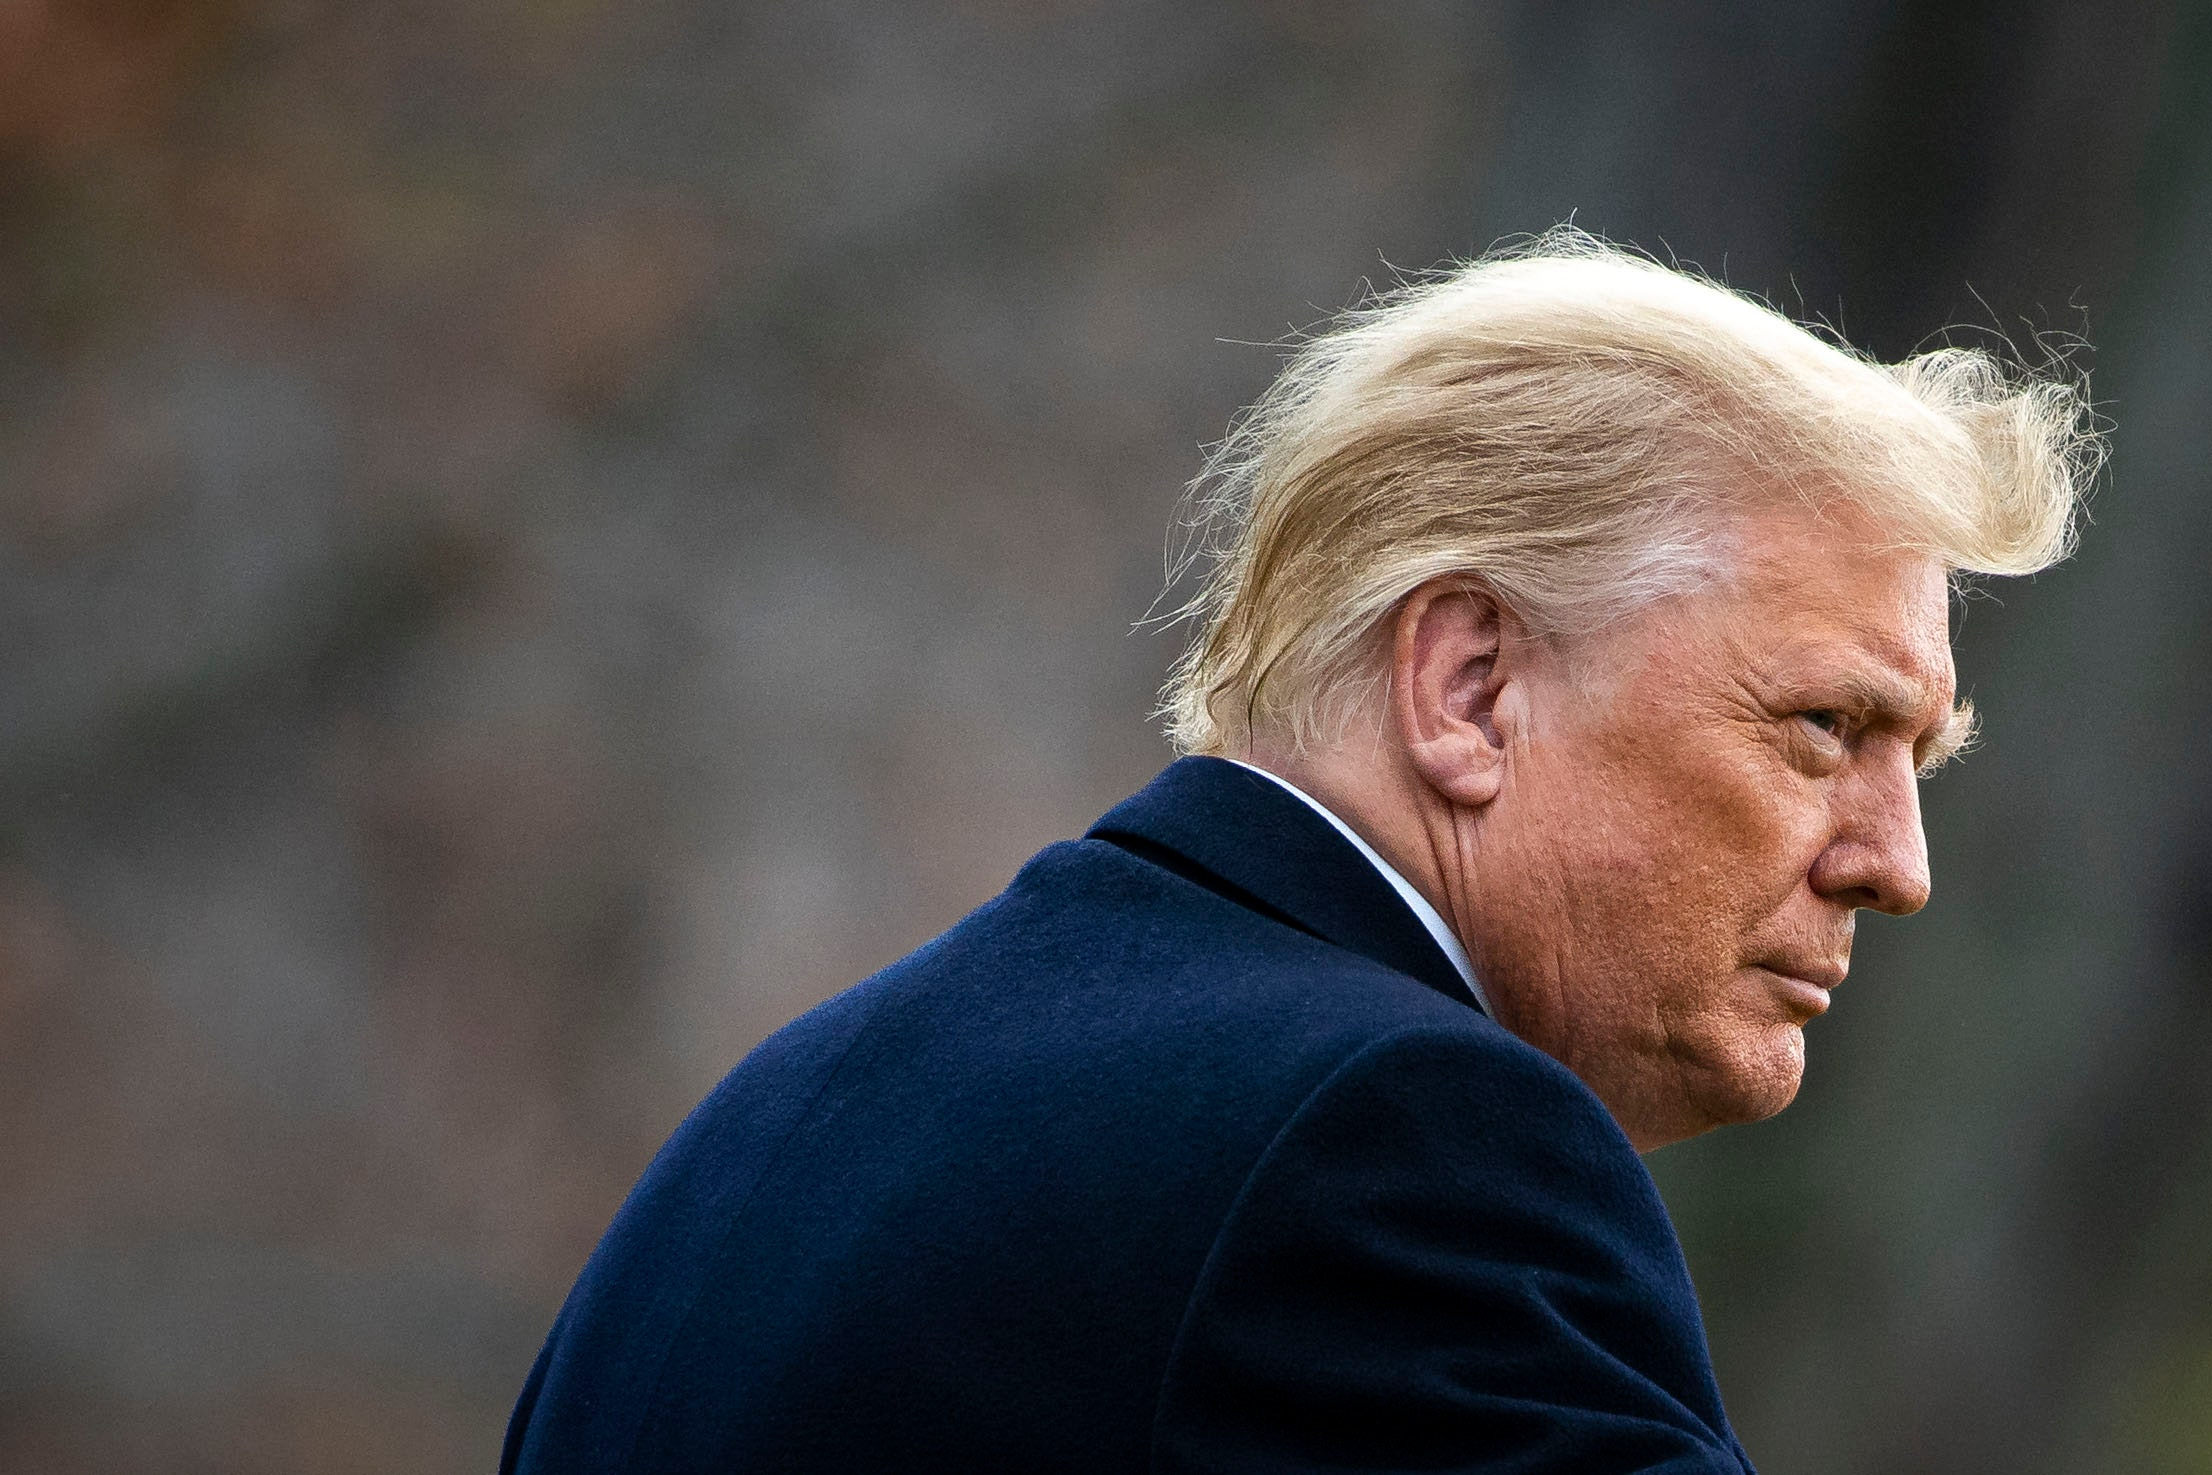person: (482, 205, 2117, 1475)
